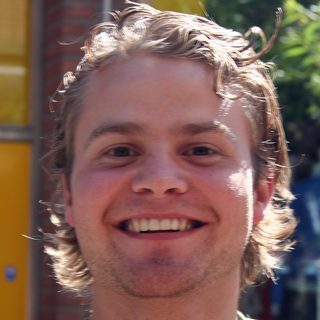eye: (177, 139, 225, 164), (96, 141, 144, 165)
